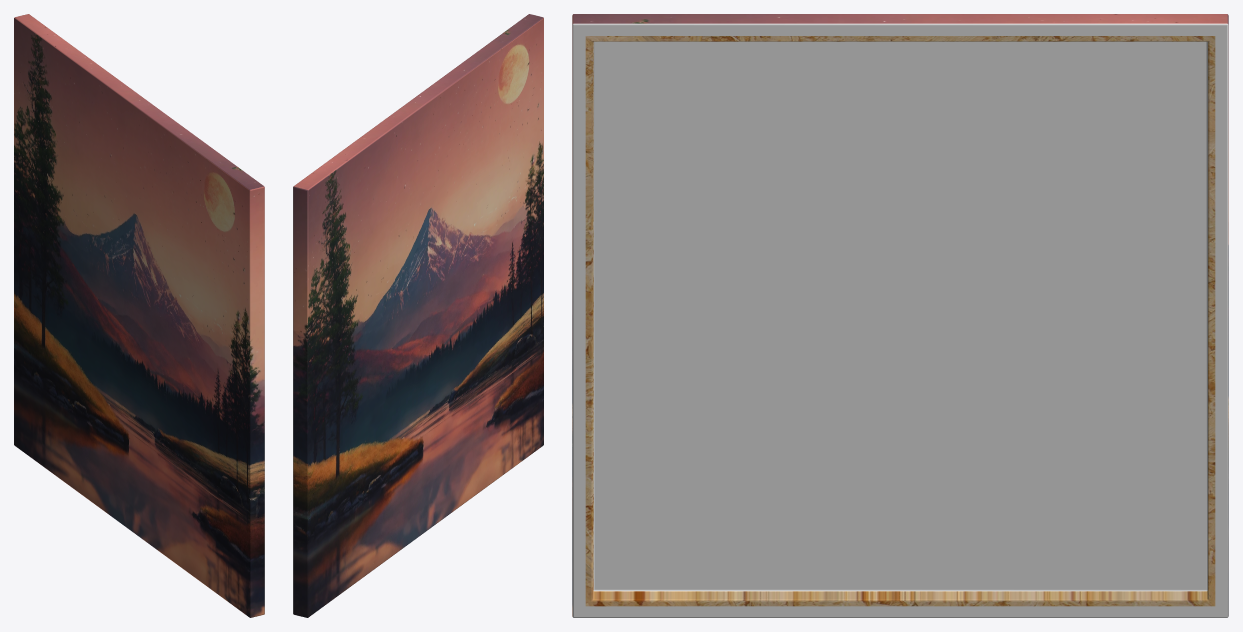
File: MOD_ART_ThreeRooms.fbx_Wall_Painting_M4.fbx
3 renders of one model, left to right at view 1: azimuth 30°, elevation 25°; view 2: azimuth 150°, elevation 25°; view 3: azimuth 270°, elevation 25°, orthographic. The views are drawn at different scales.
Parts seen in each view (by area): view 1: Painting 4; view 2: Painting 4; view 3: Painting 4.
Boxes of the visible parts, x1,y1,x2,y2 form: Painting 4: (14,14,264,617); Painting 4: (293,14,543,617); Painting 4: (572,14,1228,617).
Size of the model in its own units: 1.5 by 40 by 40.
Materials: 3 (2 with a texture image).
